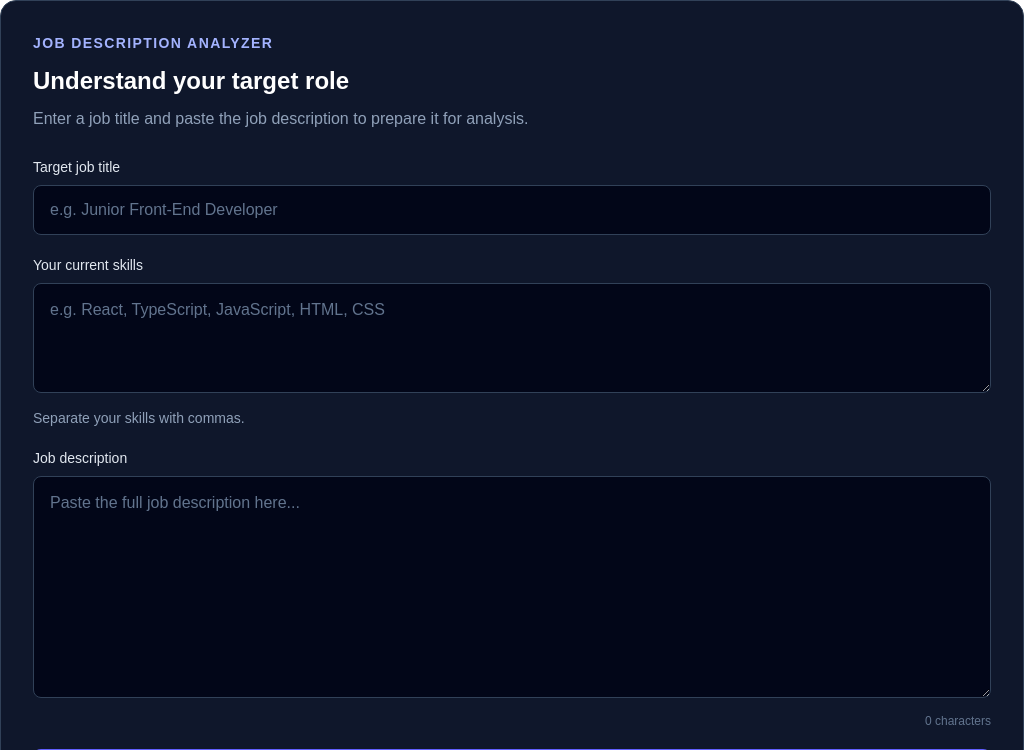
Test: JobDescriptionAnalyzer › shows an error when the job title is empty
This screenshot has width=1024, height=750.
Type "We are looking for a developer with React and TypeScript experience." into the text box labelled "Job description" at [512, 587], box [33,476,991,698]
(page scrolled)
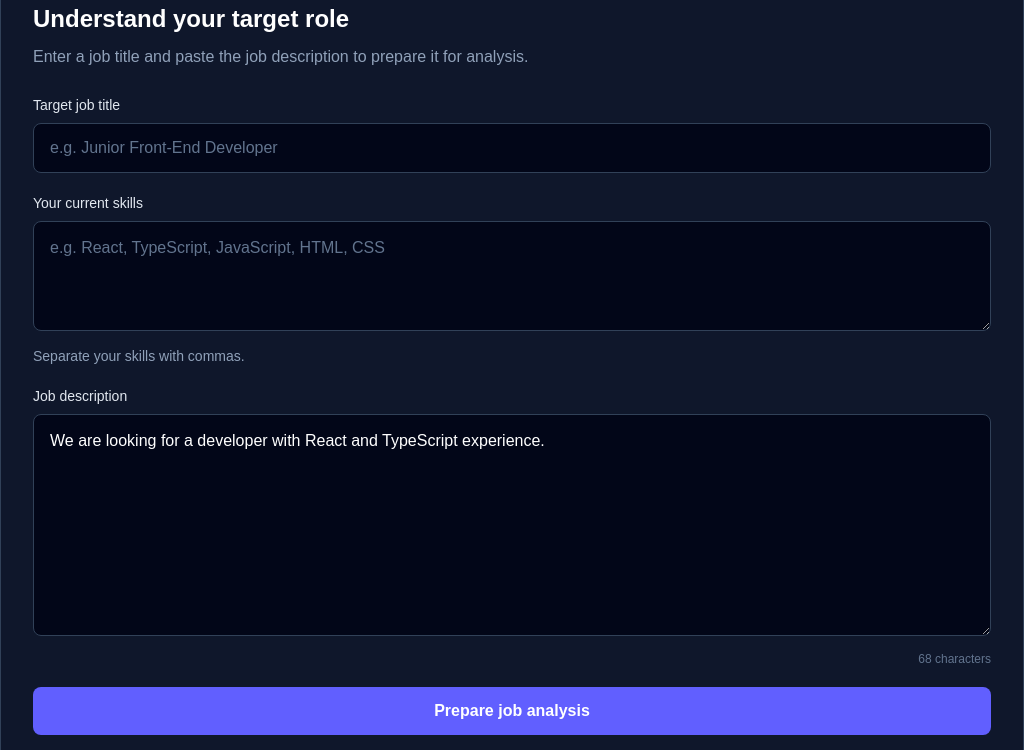
Click the button "Prepare job analysis" at [512, 711], box [33,687,991,735]
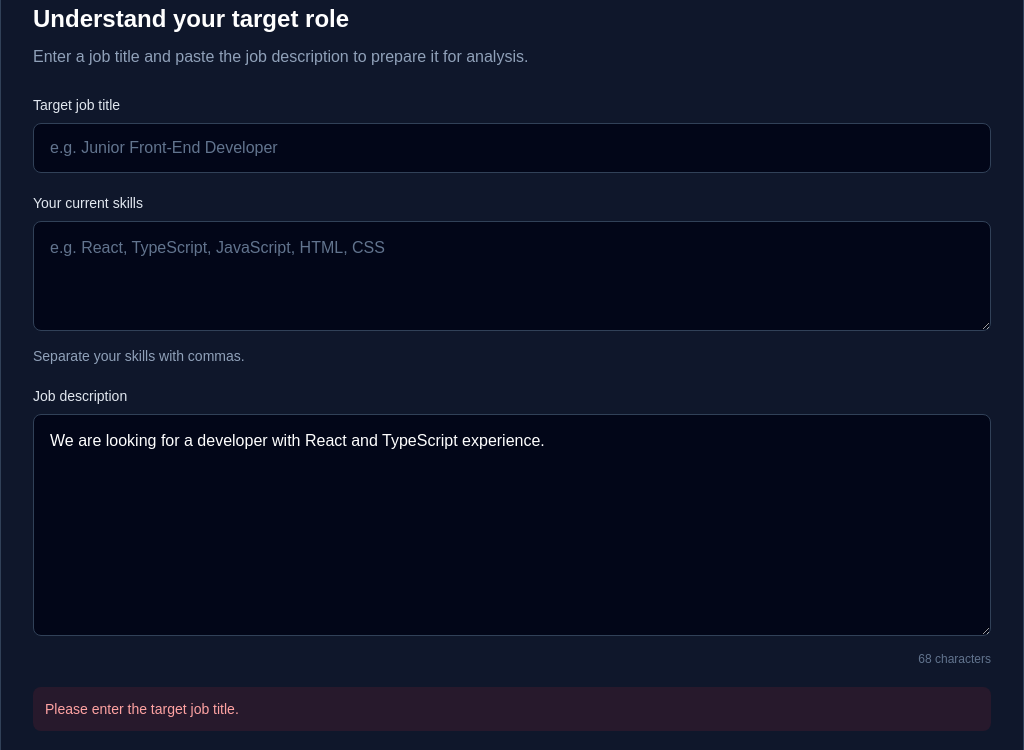
Expected: the message reads "Please enter the target job title.", [45,701,239,717]
